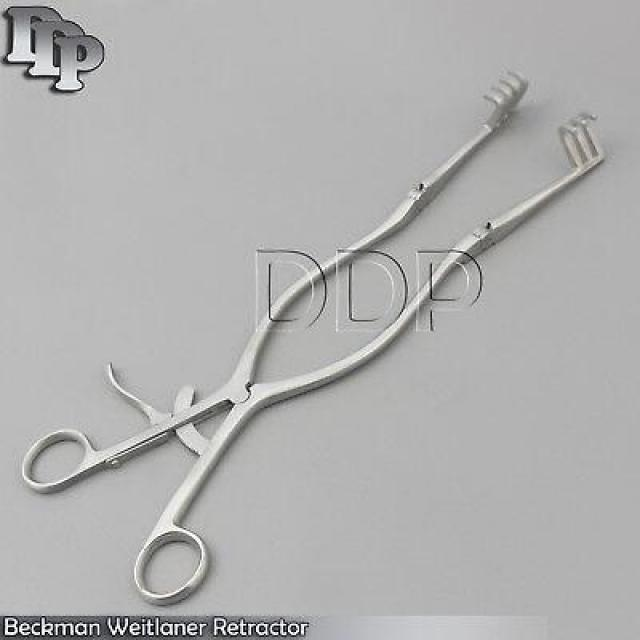Weitlaner: (16, 67, 613, 613)
